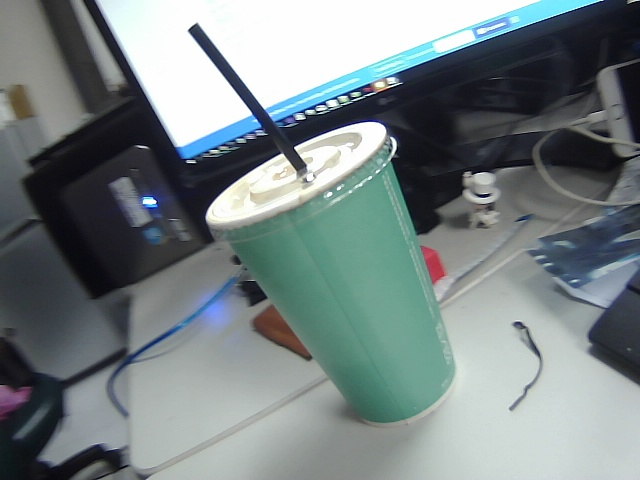beverage: (157, 18, 503, 435)
